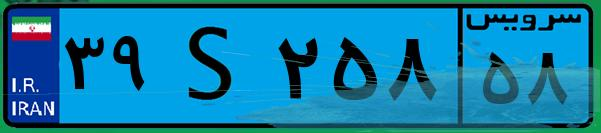2: (270, 28, 330, 110)
3: (57, 26, 110, 100)
5: (330, 28, 385, 110), (475, 38, 525, 113)
8: (385, 28, 445, 110), (525, 38, 570, 115)
9: (110, 28, 158, 98)
S: (158, 12, 270, 120)
